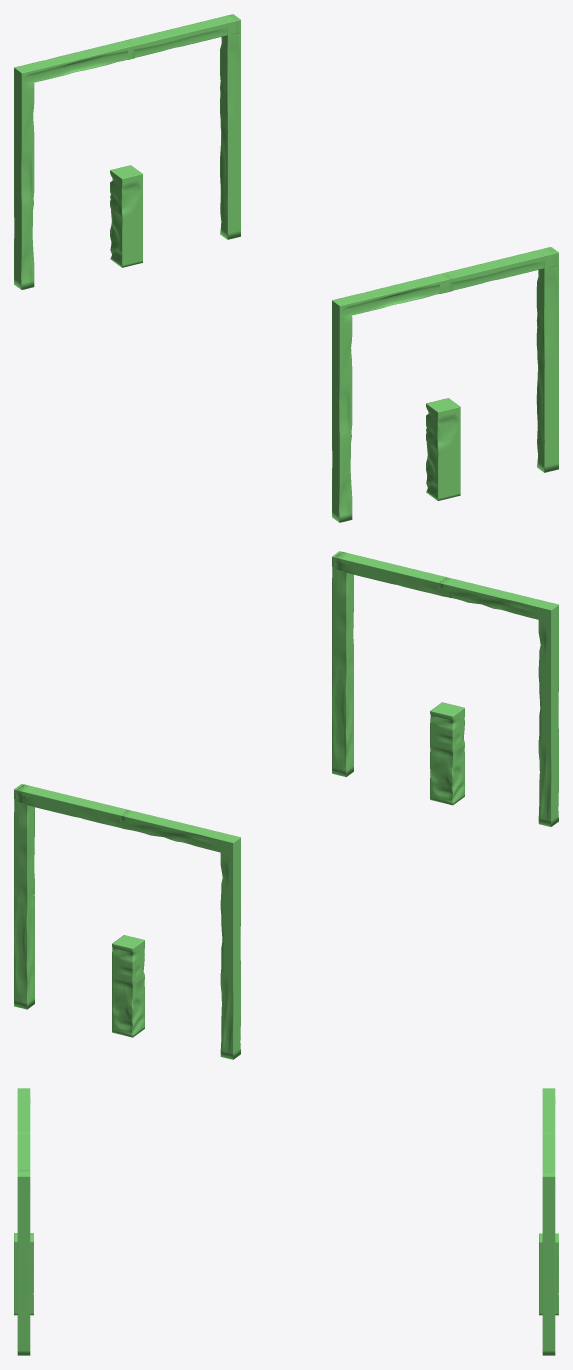
Rendered from protector_solo.glb.
3 renders of one model, top to bottom at view 1: azimuth 30°, elevation 25°; view 2: azimuth 150°, elevation 25°; view 3: azimuth 270°, elevation 25°, orthographic. The views are drawn at different scales.
Visible parts, largest first — view 1: Протектор .001; view 2: Протектор .001; view 3: Протектор .001.
Boxes of the visible parts, x1,y1,x2,y2 form: Протектор .001: (14, 14, 558, 522); Протектор .001: (14, 551, 558, 1059); Протектор .001: (14, 1088, 558, 1355).
Bounding box in the file's own units: 2.44 × 2.3 × 6.35.
